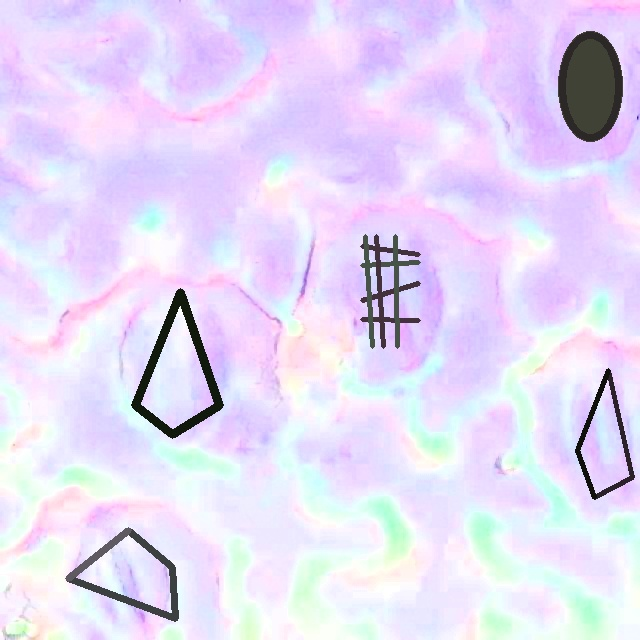close: (131, 288, 223, 438), (575, 368, 634, 499), (361, 235, 420, 347)
open: (66, 527, 175, 620), (559, 32, 621, 141)
